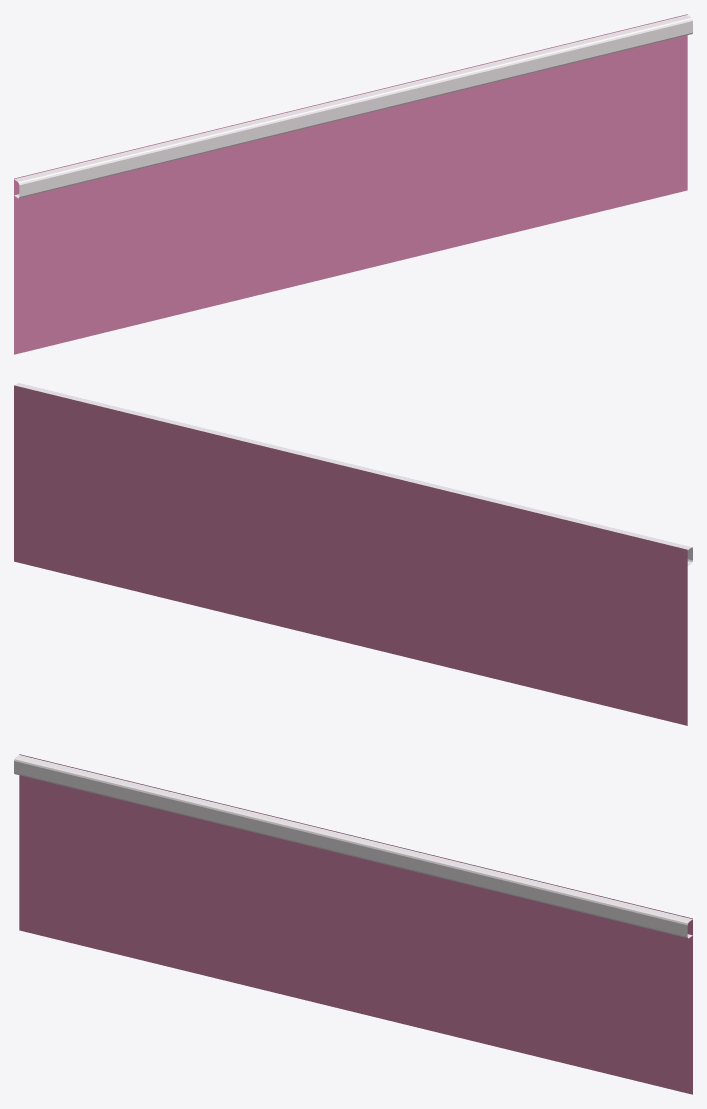
File: SM_House_Base_200CM3.fbx
3 views of the same model, one above another, from view 1: azimuth 30°, elevation 25°; view 2: azimuth 150°, elevation 25°; view 3: azimuth 330°, elevation 25° (orthographic).
Parts seen in each view (by area): view 1: SM_House_Base_200CM3; view 2: SM_House_Base_200CM3; view 3: SM_House_Base_200CM3.
Boxes of the visible parts, <box> form: SM_House_Base_200CM3: <box>14,14,692,354</box>; SM_House_Base_200CM3: <box>14,383,692,725</box>; SM_House_Base_200CM3: <box>14,754,692,1094</box>.
Bounding box in the file's own units: 200 × 2.74 × 50.
